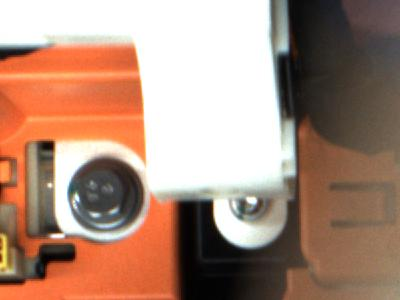nut_b: (65, 155, 141, 230)
